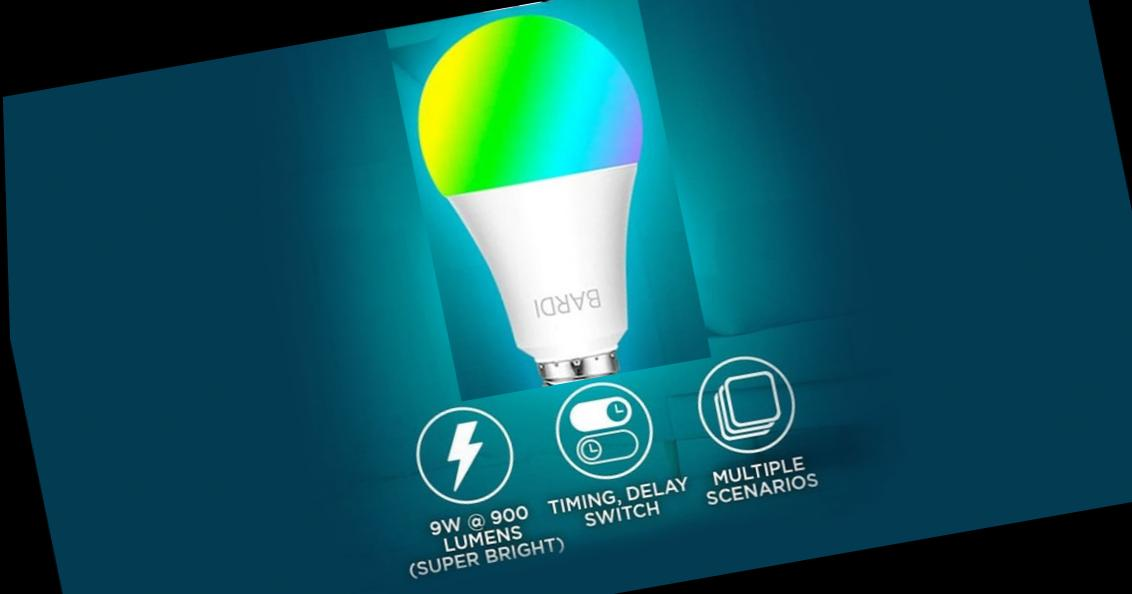Bulb: (381, 0, 708, 400)
